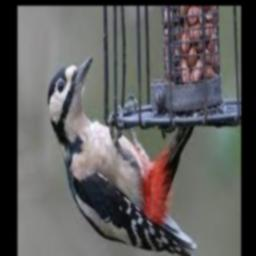Woodpecker: (47, 55, 197, 256)
